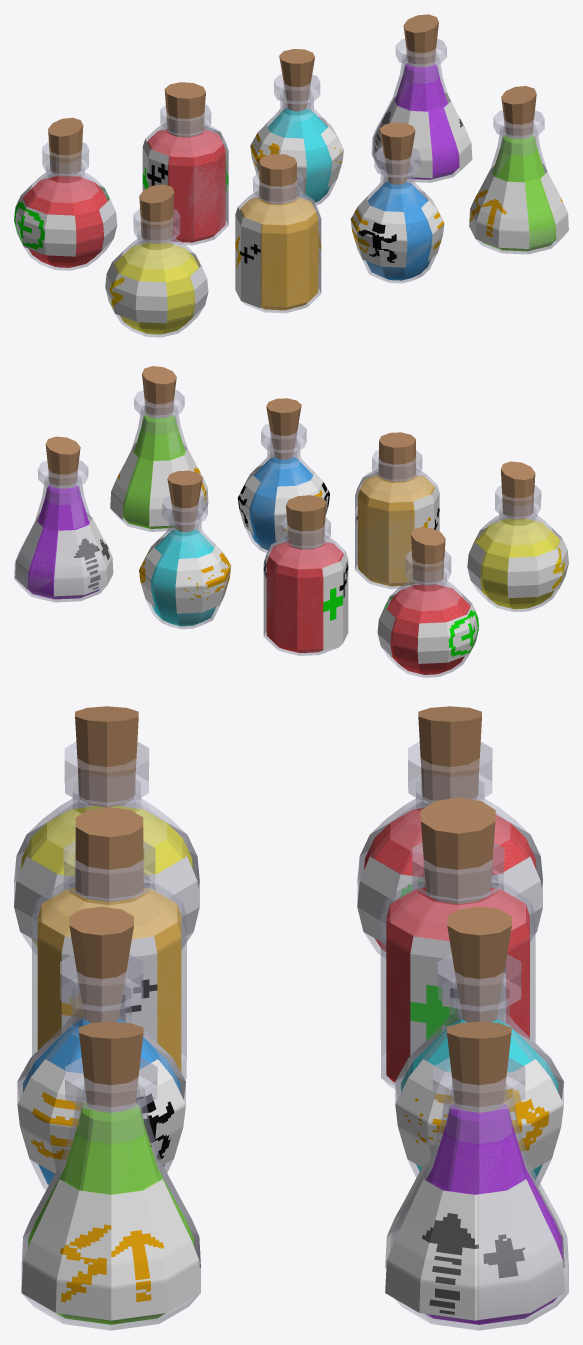
The model's file is POTIONFBX.fbx.
The picture shows the model from 3 angles, top to bottom: view 1: azimuth 30°, elevation 25°; view 2: azimuth 150°, elevation 25°; view 3: azimuth 270°, elevation 25°; orthographic projection. The views are drawn at different scales.
Visible parts, largest first — view 1: Buff:pCylinder2 (×2), Buff:pSphere1 (×2), Buff:pCylinder4 (×2), Buff:pCylinder8 (×2), Buff:pCylinder5 (×2), Buff:pSphere2 (×2), Buff:pCylinder9 (×2), Buff:pCylinder7 (×2), pCylinder8 (×2), pCylinder5 (×2), Buff:pCylinder3 (×2), Buff:pCylinder1 (×2) (+10 smaller); view 2: Buff:pCylinder2 (×2), Buff:pCylinder8 (×2), Buff:pSphere1 (×2), Buff:pCylinder4 (×2), Buff:pCylinder5 (×2), Buff:pSphere2 (×2), Buff:pCylinder9 (×2), Buff:pCylinder7 (×2), pCylinder8 (×2), pCylinder5 (×2), Buff:pCylinder3 (×2), Buff:pCylinder1 (×2) (+11 smaller); view 3: Buff:pCylinder8 (×2), Buff:pCylinder2 (×2), Buff:pSphere1 (×2), pCylinder9, pCylinder10, Buff:pCylinder4 (×2), Buff:pCylinder9 (×2), Buff:pCylinder5 (×2), Buff:pCylinder3 (×2), Buff:pCylinder6 (×2), Buff:pCylinder1 (×2), Buff:pCylinder10 (×2) (+10 smaller).
Boxes of the visible parts, x1,y1,x2,y2 form: Buff:pCylinder2 (×2): [145, 104, 321, 313]; Buff:pSphere1 (×2): [21, 141, 208, 337]; Buff:pCylinder4 (×2): [147, 128, 318, 310]; Buff:pCylinder8 (×2): [371, 38, 566, 254]; Buff:pCylinder5 (×2): [266, 74, 437, 283]; Buff:pSphere2 (×2): [23, 176, 198, 334]; Buff:pCylinder9 (×2): [394, 63, 556, 251]; Buff:pCylinder7 (×2): [267, 108, 432, 280]; pCylinder8 (×2): [372, 97, 529, 248]; pCylinder5 (×2): [250, 123, 407, 267]; Buff:pCylinder3 (×2): [164, 82, 296, 203]; Buff:pCylinder1 (×2): [48, 117, 174, 243]; Buff:pCylinder2 (×2): [264, 450, 436, 655]; Buff:pCylinder8 (×2): [14, 390, 199, 602]; Buff:pSphere1 (×2): [377, 485, 561, 677]; Buff:pCylinder4 (×2): [266, 474, 434, 652]; Buff:pCylinder5 (×2): [146, 423, 314, 629]; Buff:pSphere2 (×2): [386, 518, 559, 674]; Buff:pCylinder9 (×2): [27, 414, 185, 599]; Buff:pCylinder7 (×2): [150, 457, 312, 626]; pCylinder8 (×2): [54, 444, 208, 596]; pCylinder5 (×2): [175, 466, 329, 613]; Buff:pCylinder3 (×2): [286, 432, 415, 549]; Buff:pCylinder1 (×2): [411, 461, 535, 585]; Buff:pCylinder8 (×2): [21, 1057, 568, 1330]; Buff:pCylinder2 (×2): [32, 841, 535, 1088]; Buff:pSphere1 (×2): [14, 741, 542, 958]; pCylinder9: [385, 1179, 564, 1320]; pCylinder10: [21, 1179, 200, 1320]; Buff:pCylinder4 (×2): [37, 887, 529, 1082]; Buff:pCylinder9 (×2): [28, 1104, 562, 1324]; Buff:pCylinder5 (×2): [17, 954, 563, 1189]; Buff:pCylinder3 (×2): [75, 797, 495, 904]; Buff:pCylinder6 (×2): [69, 906, 511, 1023]; Buff:pCylinder1 (×2): [75, 706, 481, 807]; Buff:pCylinder10 (×2): [79, 1021, 511, 1112].
Bounding box in the file's own units: 8.91 × 2.86 × 5.04.
